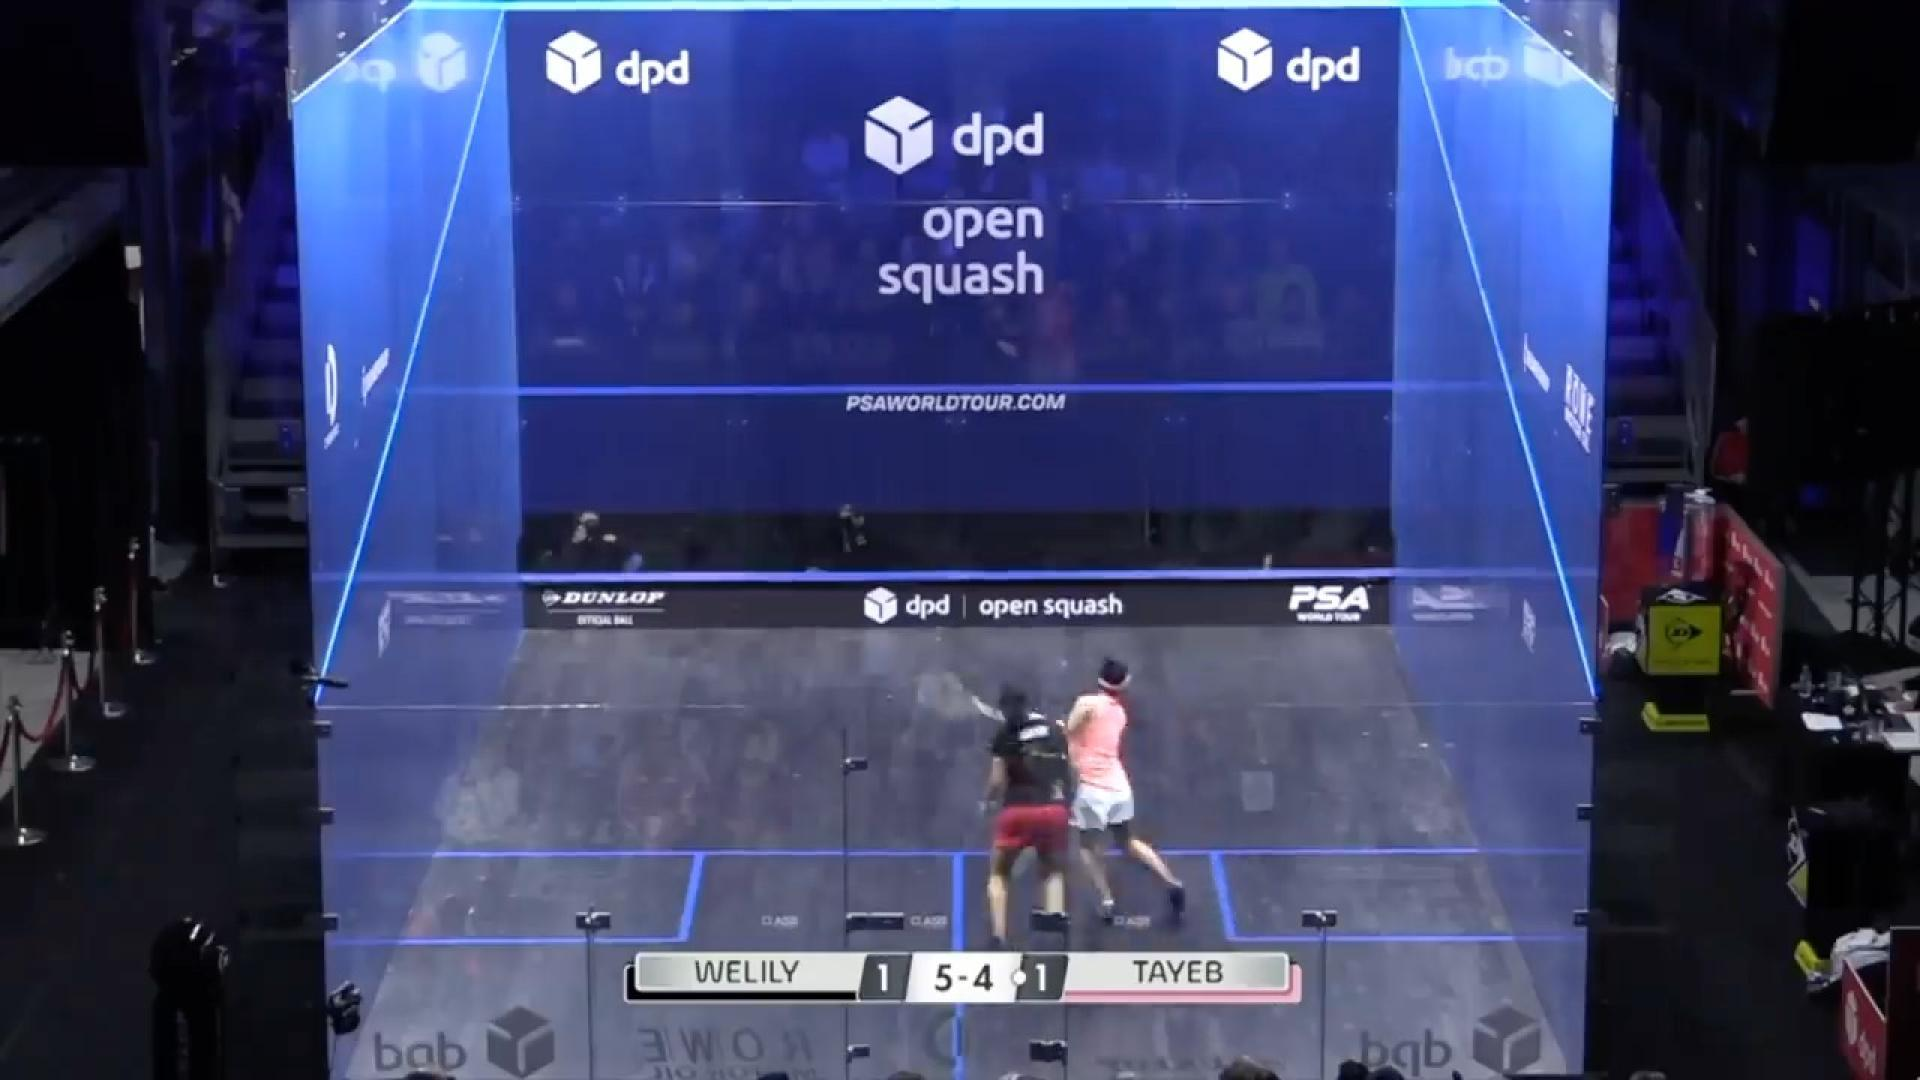Squash-Ball: (1236, 535, 1290, 588)
